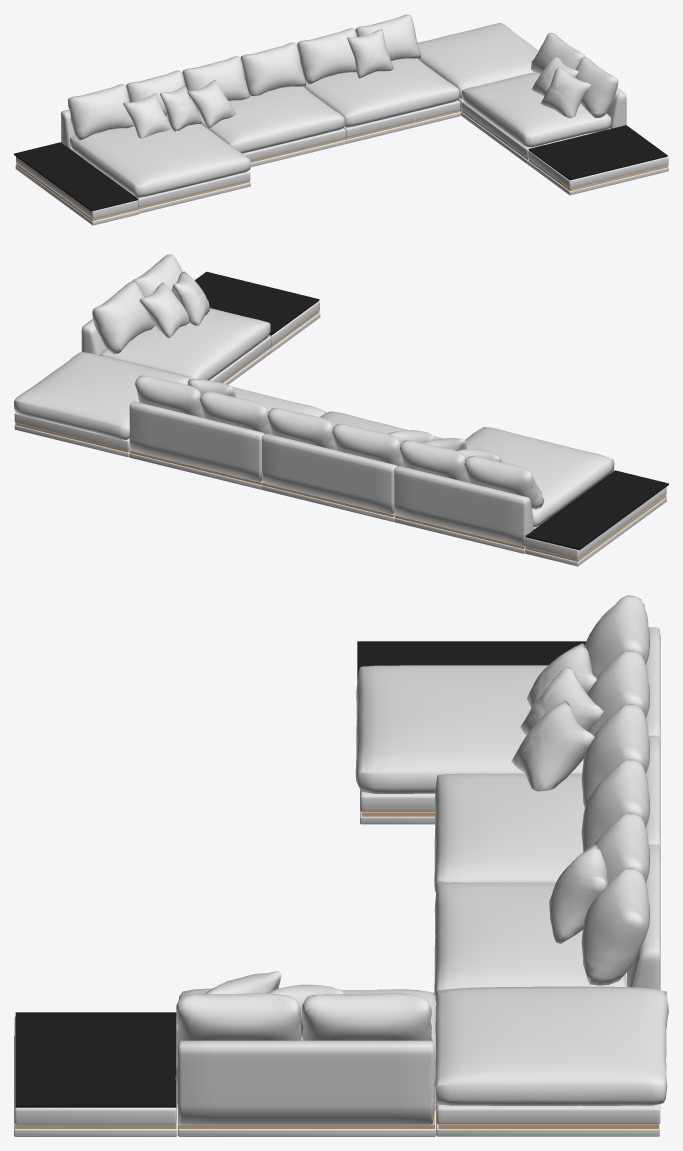
File: sofa.fbx
3 views of the same model, one above another, from view 1: azimuth 30°, elevation 25°; view 2: azimuth 150°, elevation 25°; view 3: azimuth 270°, elevation 25° (orthographic). The views are drawn at different scales.
Parts seen in each view (by area): view 1: Cube.196, Cube.183, Cube.178, Cube.177, Cube.117; view 2: Cube.196, Cube.183, Cube.177, Cube.178, Cube.117; view 3: Cube.196, Cube.178, Cube.183, Cube.177, Cube.117.
Boxes of the visible parts, left/top/right/bottom form: Cube.196: left=61, top=14, right=626, bottom=197; Cube.183: left=15, top=98, right=668, bottom=225; Cube.178: left=528, top=125, right=667, bottom=180; Cube.177: left=14, top=142, right=138, bottom=211; Cube.117: left=16, top=108, right=668, bottom=221; Cube.196: left=14, top=254, right=614, bottom=546; Cube.183: left=14, top=301, right=666, bottom=566; Cube.177: left=525, top=470, right=668, bottom=550; Cube.178: left=195, top=271, right=319, bottom=335; Cube.117: left=15, top=311, right=666, bottom=561; Cube.196: left=175, top=595, right=668, bottom=1124; Cube.178: left=15, top=1012, right=176, bottom=1107; Cube.183: left=14, top=790, right=660, bottom=1136; Cube.177: left=357, top=641, right=586, bottom=680; Cube.117: left=15, top=811, right=658, bottom=1128.
Bounding box in the file's own units: 767 × 99.72 × 456.
